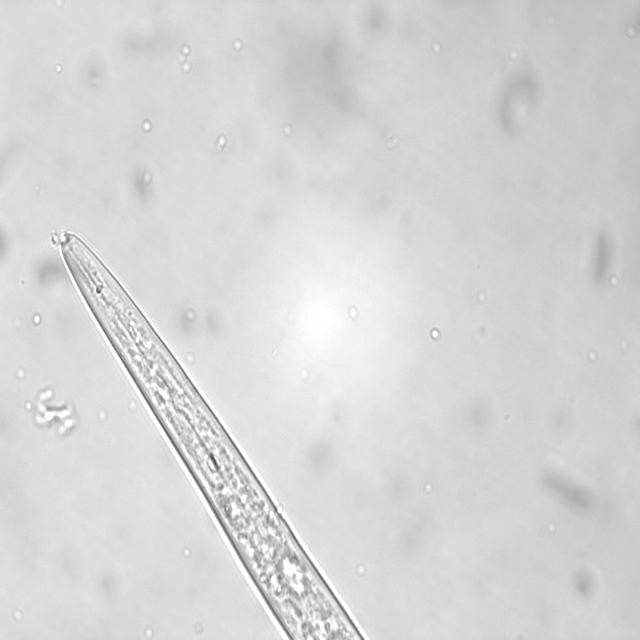Meloidogyne: (46, 226, 379, 640)
